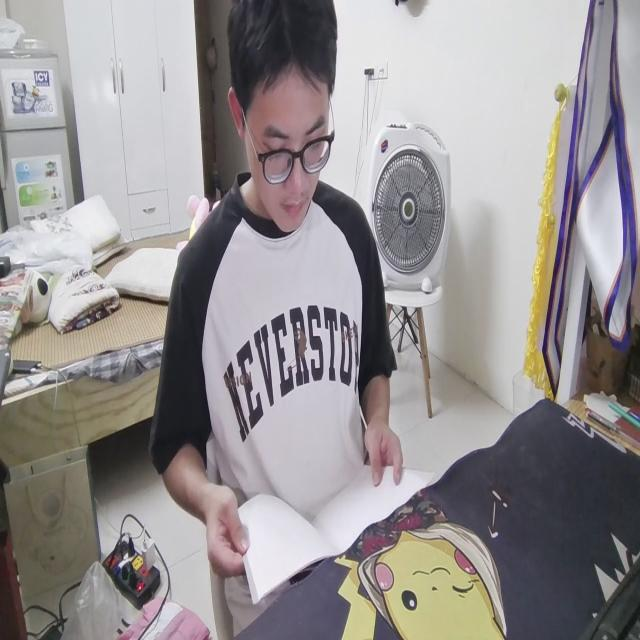book: (234, 462, 421, 584)
student: (152, 0, 403, 616)
